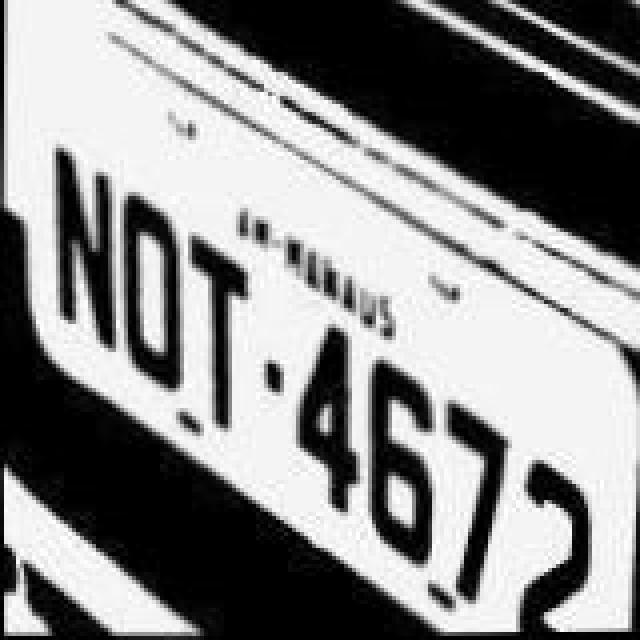2: (512, 446, 608, 634)
4: (288, 320, 368, 520)
6: (360, 358, 440, 574)
7: (434, 396, 514, 604)
N: (38, 134, 122, 362)
O: (118, 174, 190, 402)
T: (184, 228, 260, 436)
